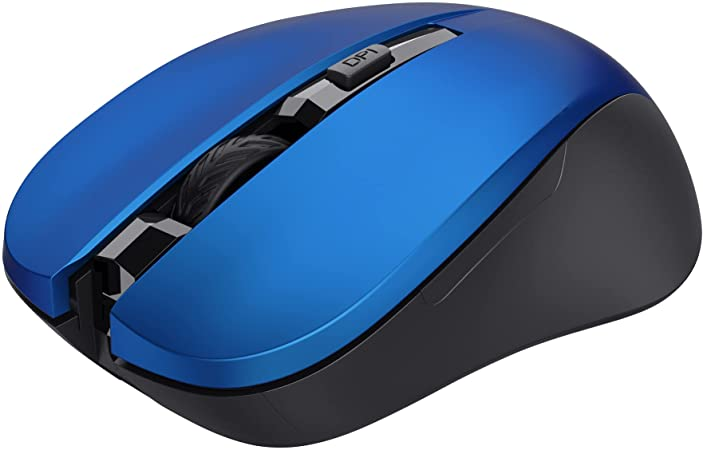mouse: (10, 13, 690, 420)
